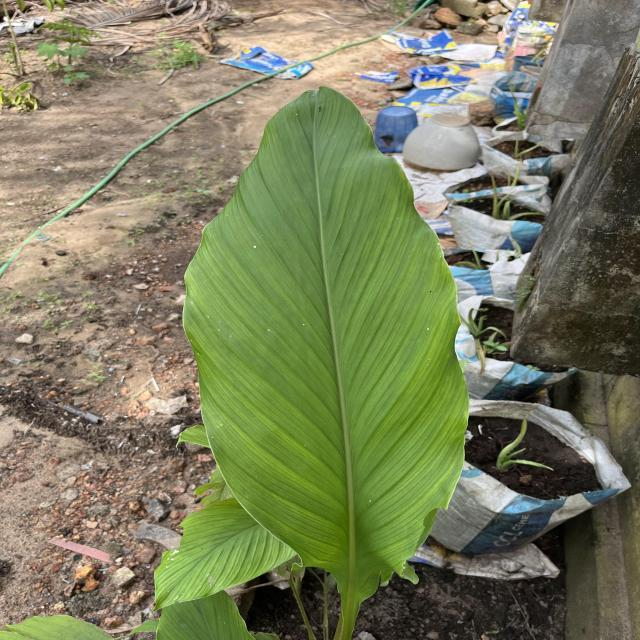Curcuma longa: (181, 83, 474, 616)
